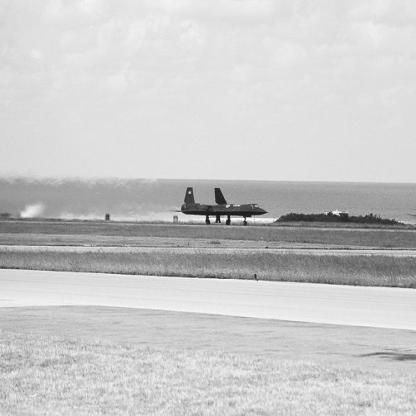SR71: (171, 188, 270, 226)
